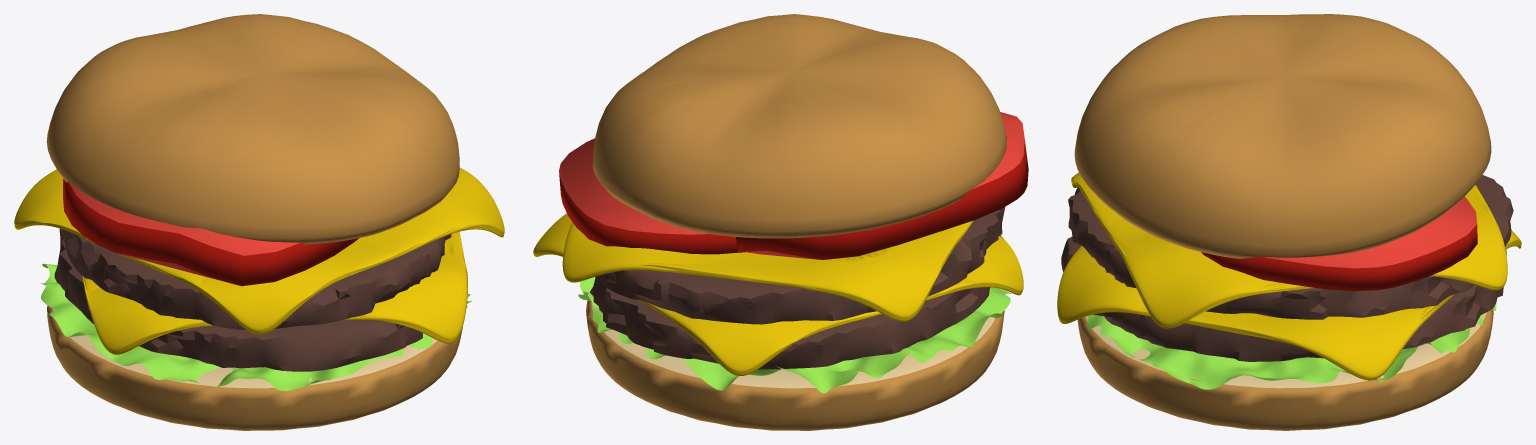
The model's file is burger.glb.
The picture shows the model from 3 angles, left to right: view 1: azimuth 30°, elevation 25°; view 2: azimuth 150°, elevation 25°; view 3: azimuth 270°, elevation 25°; orthographic projection.
Parts seen in each view (by area): view 1: bun-top, bun-bottom, cheese-2, patty-2, tomato-1, patty-1, cheese-1, lettuce; view 2: bun-top, bun-bottom, cheese-2, patty-2, patty-1, cheese-1, tomato-1, tomato-2, lettuce; view 3: bun-top, bun-bottom, cheese-2, cheese-1, patty-2, tomato-2, patty-1, lettuce.
Part boxes in pixels (left/top/right/bottom): bun-top: left=46, top=14, right=459, bottom=244; bun-bottom: left=47, top=305, right=462, bottom=430; cheese-2: left=14, top=167, right=504, bottom=334; patty-2: left=60, top=228, right=451, bottom=329; tomato-1: left=63, top=179, right=358, bottom=286; patty-1: left=54, top=229, right=422, bottom=371; cheese-1: left=82, top=231, right=467, bottom=354; lettuce: left=40, top=263, right=471, bottom=390; bun-top: left=593, top=14, right=1006, bottom=238; bun-bottom: left=586, top=300, right=1004, bottom=430; cheese-2: left=562, top=220, right=973, bottom=321; patty-2: left=595, top=207, right=1005, bottom=324; patty-1: left=590, top=278, right=990, bottom=369; cheese-1: left=533, top=213, right=1023, bottom=376; tomato-1: left=736, top=112, right=1028, bottom=259; tomato-2: left=559, top=138, right=745, bottom=254; lettuce: left=578, top=277, right=1011, bottom=393; bun-top: left=1074, top=14, right=1491, bottom=258; bun-bottom: left=1077, top=309, right=1493, bottom=430; cheese-2: left=1071, top=172, right=1507, bottom=328; cheese-1: left=1057, top=230, right=1521, bottom=380; patty-2: left=1068, top=175, right=1513, bottom=319; tomato-2: left=1201, top=196, right=1477, bottom=291; patty-1: left=1061, top=236, right=1506, bottom=361; lettuce: left=1087, top=303, right=1496, bottom=389.
Bounding box in the file's own units: 2.27 × 1.53 × 2.2.
